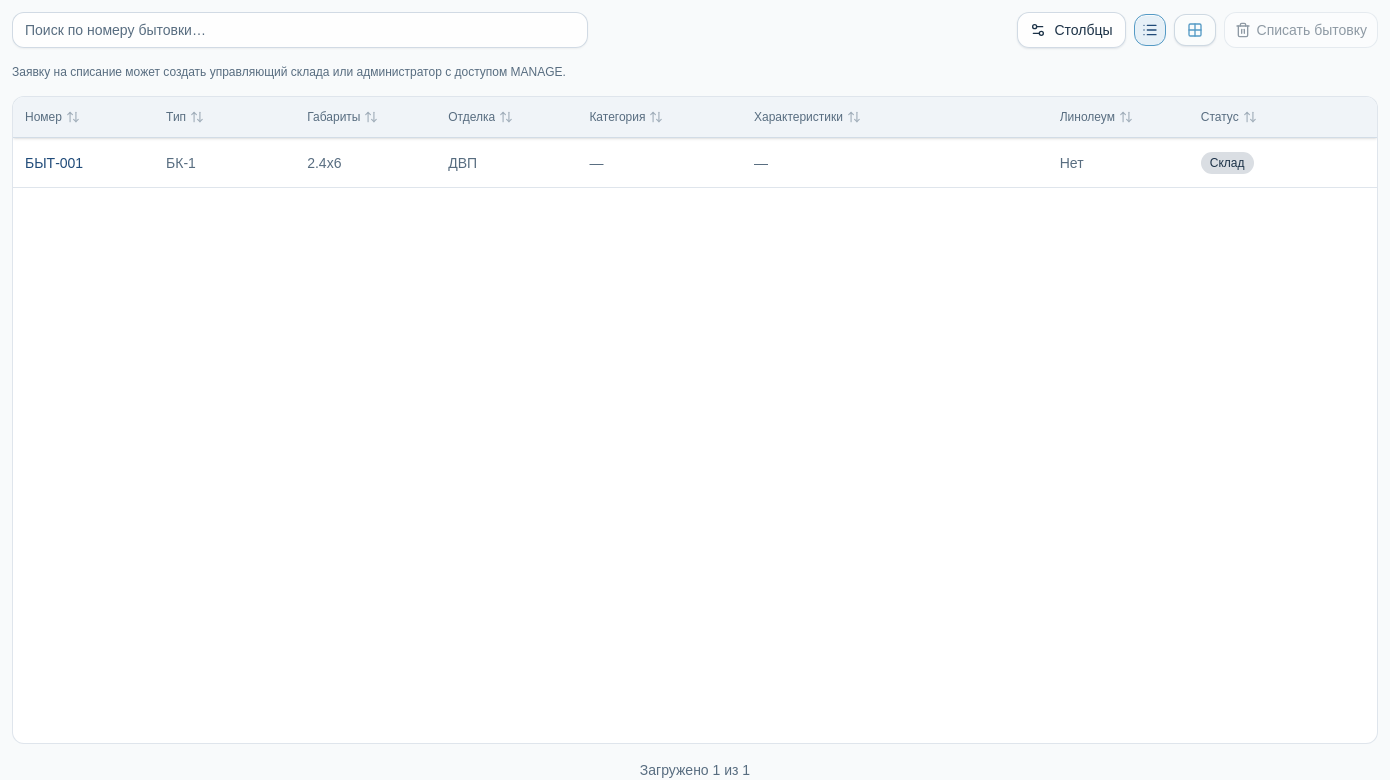
Test: RentalItemsPage lazy loading › resets to page zero for a changed warehouse search
The width and height of the screenshot is (1390, 780).
Expected: the button "БЫТ-001" is shown, [25, 152, 83, 172]
Type "СПБ2" into the search field named "Поиск по реестру склада" at (300, 30), box [12, 12, 588, 48]
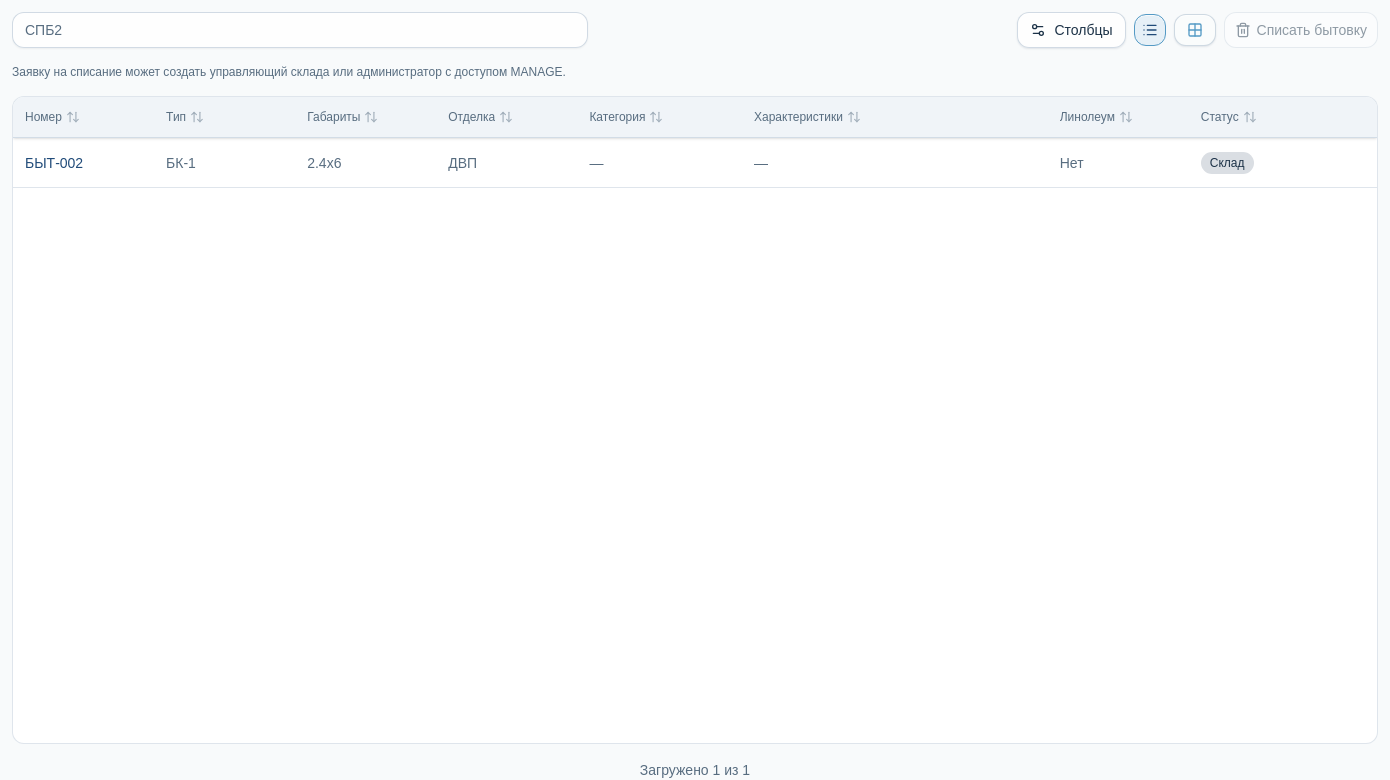
Expected: the button "БЫТ-002" is shown, [25, 152, 83, 172]
